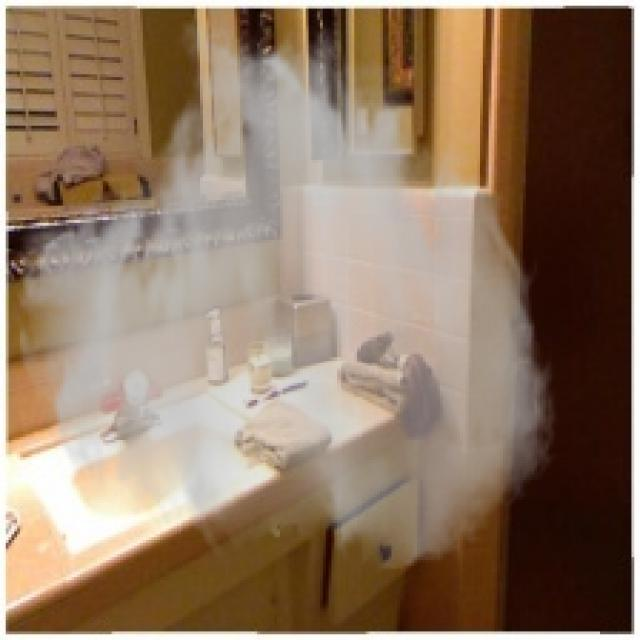Smoke: (11, 12, 560, 574)
